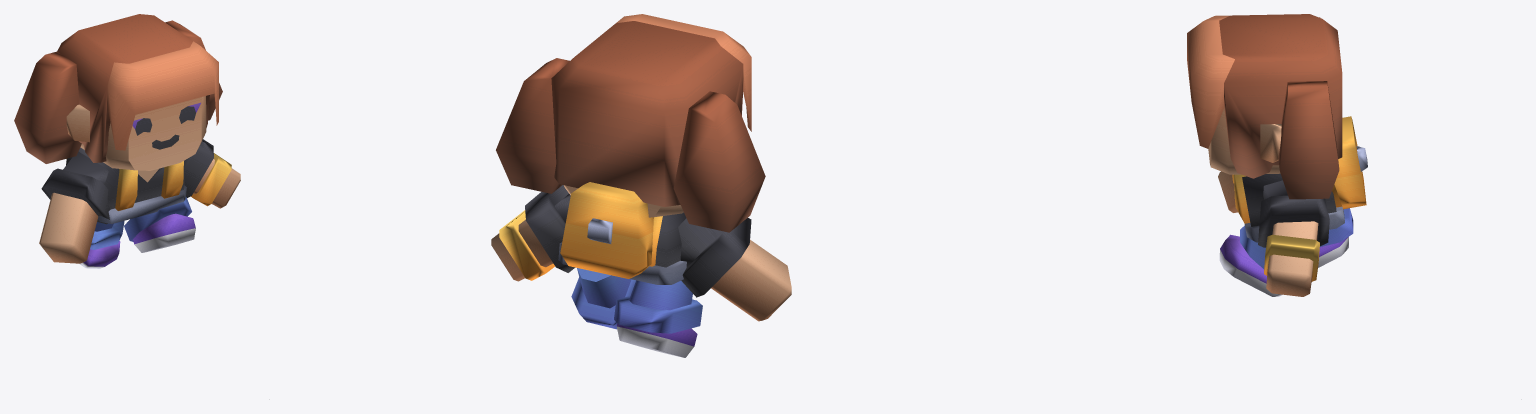
Rendered from climber_sprint_1.glb.
3 renders of one model, left to right at view 1: azimuth 30°, elevation 25°; view 2: azimuth 150°, elevation 25°; view 3: azimuth 270°, elevation 25°, orthographic. The views are drawn at different scales.
Parts seen in each view (by area): view 1: climber-sprint-1; view 2: climber-sprint-1; view 3: climber-sprint-1.
Part boxes in pixels (x1,y1,x2,y2): climber-sprint-1: [14, 14, 240, 268]; climber-sprint-1: [491, 14, 791, 357]; climber-sprint-1: [1187, 14, 1367, 296].
Size of the model in its own units: 1.2 by 0.7301 by 1.2.
1 material, 1 textured.
